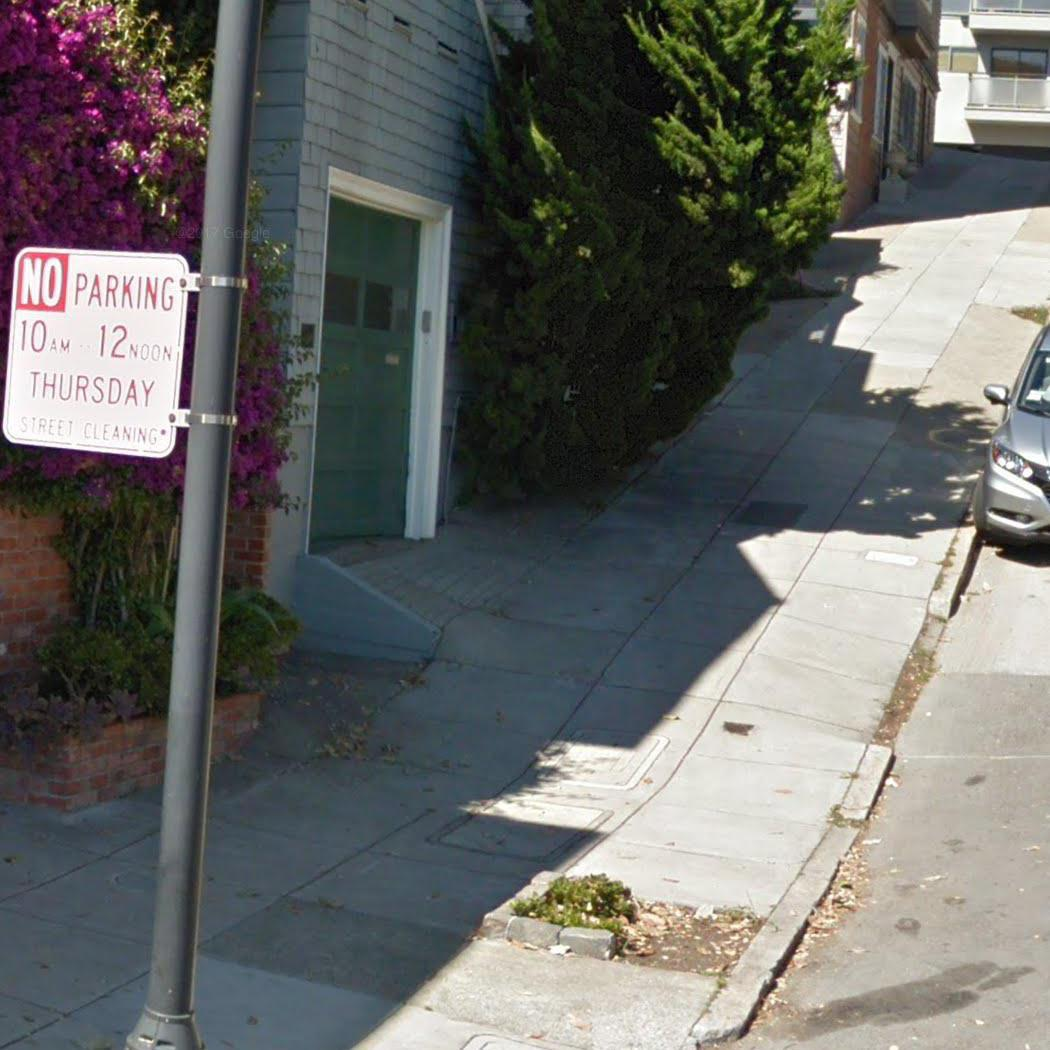No Parking: (1, 242, 192, 466)
